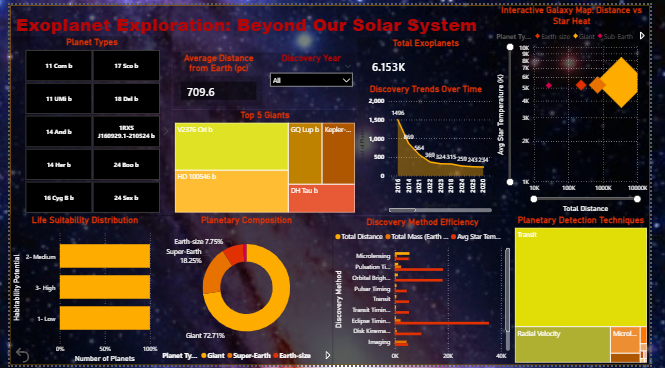

The dashboard page shown, as its layout file describes it:
{"tool":"powerbi","page":{"name":"Page 1","canvas":[1280,720],"ordinal":0},"visuals":[{"type":"shape","box":[0,0,1280,720],"z":0},{"type":"shape","box":[0,0,954,78],"z":1000},{"type":"cardVisual","title":"Total Exoplanets","fields":{"Data":["CountNonNull(exoplanet_analysis_final.planet_name)"]},"box":[694,66,274,92],"z":2000},{"type":"cardVisual","title":"Average Distance from Earth (pc)","fields":{"Data":["Avg(exoplanet_analysis_final.distance_pc)"]},"box":[325,95,185,112.5],"z":3000},{"type":"areaChart","title":"Discovery Trends Over Time","fields":{"Category":["exoplanet_analysis_final.discovery_year"],"Y":["CountNonNull(exoplanet_analysis_final.planet_name)"]},"box":[694,158,274,262],"z":4000},{"type":"donutChart","title":"Planetary Composition","fields":{"Category":["exoplanet_analysis_final.planet_type"],"Y":["CountNonNull(exoplanet_analysis_final.planet_type)"]},"box":[300,420,346,300],"z":5000},{"type":"slicer","title":"Planet Types","fields":{"Values":["exoplanet_analysis_final.planet_name"]},"box":[6,62,318,360],"z":6000},{"type":"treemap","title":"Planetary Detection Techniques","fields":{"Group":["exoplanet_analysis_final.discovery_method"],"Values":["CountNonNull(exoplanet_analysis_final.planet_name)"]},"box":[1006,420,274,300],"z":7000},{"type":"hundredPercentStackedBarChart","title":"Life Suitability Distribution","fields":{"Y":["CountNonNull(exoplanet_analysis_final.planet_name)"],"Category":["exoplanet_analysis_final.Habitability Potential"]},"box":[0,420,300,300],"z":8000},{"type":"scatterChart","title":"Interactive Galaxy Map: Distance vs Star Heat","fields":{"X":["Sum(exoplanet_analysis_final.distance_pc)"],"Y":["Avg(exoplanet_analysis_final.star_temp_k)"],"Size":["Sum(exoplanet_analysis_final.radius_earth_units)"],"Series":["exoplanet_analysis_final.planet_type"]},"box":[968,0,312,420],"z":9000},{"type":"clusteredBarChart","title":"Discovery Method Efficiency","fields":{"Category":["exoplanet_analysis_final.discovery_method"],"Y":["Avg(exoplanet_analysis_final.distance_pc)","Avg(exoplanet_analysis_final.mass_earth_units)","Avg(exoplanet_analysis_final.star_temp_k)"]},"box":[646,422,360,298],"z":10000},{"type":"treemap","title":"Top 5 Giants","fields":{"Group":["exoplanet_analysis_final.planet_name"],"Values":["Sum(exoplanet_analysis_final.radius_earth_units)"]},"box":[324,210,370,210],"z":11000},{"type":"slicer","title":"Discovery Year","fields":{"Values":["exoplanet_analysis_final.discovery_year"]},"box":[510,95,185,112.5],"z":12000},{"type":"actionButton","box":[5,680,100,40],"z":13000}]}

Visuals, with their boxes in screenshot pixels (x1, y1, x2, y2), scaled from the page's 1280x720 canvas onto the 665x368 screenshot:
shape: detection(0, 0, 664, 367)
shape: detection(0, 0, 496, 40)
"Total Exoplanets" cardVisual: detection(361, 34, 503, 81)
"Average Distance from Earth (pc)" cardVisual: detection(169, 49, 265, 106)
"Discovery Trends Over Time" areaChart: detection(361, 81, 503, 215)
"Planetary Composition" donutChart: detection(156, 215, 336, 367)
"Planet Types" slicer: detection(3, 32, 168, 216)
"Planetary Detection Techniques" treemap: detection(523, 215, 664, 367)
"Life Suitability Distribution" hundredPercentStackedBarChart: detection(0, 215, 156, 367)
"Interactive Galaxy Map: Distance vs Star Heat" scatterChart: detection(503, 0, 664, 215)
"Discovery Method Efficiency" clusteredBarChart: detection(336, 216, 523, 367)
"Top 5 Giants" treemap: detection(168, 107, 361, 215)
"Discovery Year" slicer: detection(265, 49, 361, 106)
actionButton: detection(3, 348, 55, 367)
